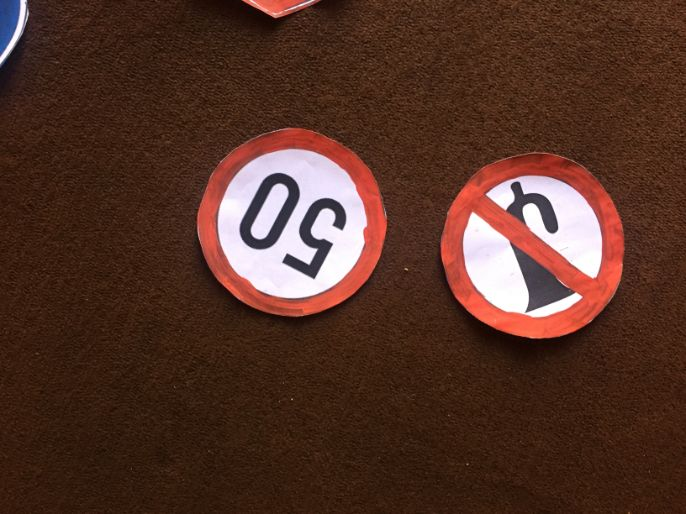no-horn: (439, 152, 626, 335)
speed-50: (201, 128, 381, 320)
